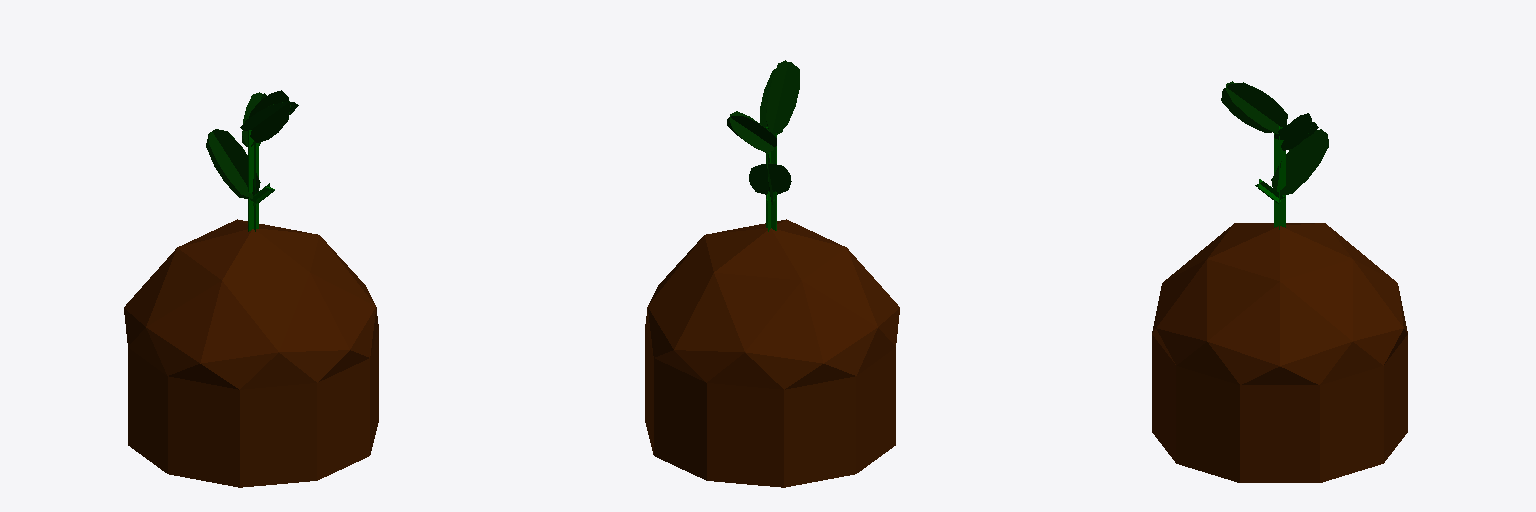
File: potato.obj
3 renders of one model, left to right at view 1: azimuth 30°, elevation 25°; view 2: azimuth 150°, elevation 25°; view 3: azimuth 270°, elevation 25°, orthographic.
Parts seen in each view (by area): view 1: Icosphere, Plane.004, Plane.003, Plane.001; view 2: Icosphere, Plane.003, Plane.004, Plane.005; view 3: Icosphere, Plane.003, Plane.004, Plane.005, Plane.001.
Part boxes in pixels (bbox=[...]): Icosphere: bbox=[124, 219, 378, 487]; Plane.004: bbox=[206, 129, 260, 198]; Plane.003: bbox=[240, 90, 298, 142]; Plane.001: bbox=[248, 130, 258, 231]; Icosphere: bbox=[645, 219, 899, 487]; Plane.003: bbox=[760, 60, 799, 134]; Plane.004: bbox=[749, 152, 791, 204]; Plane.005: bbox=[727, 111, 776, 152]; Icosphere: bbox=[1152, 223, 1407, 482]; Plane.003: bbox=[1221, 81, 1287, 133]; Plane.004: bbox=[1271, 129, 1328, 195]; Plane.005: bbox=[1274, 113, 1318, 150]; Plane.001: bbox=[1274, 126, 1285, 229].
Size of the model in its own units: 0.3611 by 0.5561 by 0.3642.